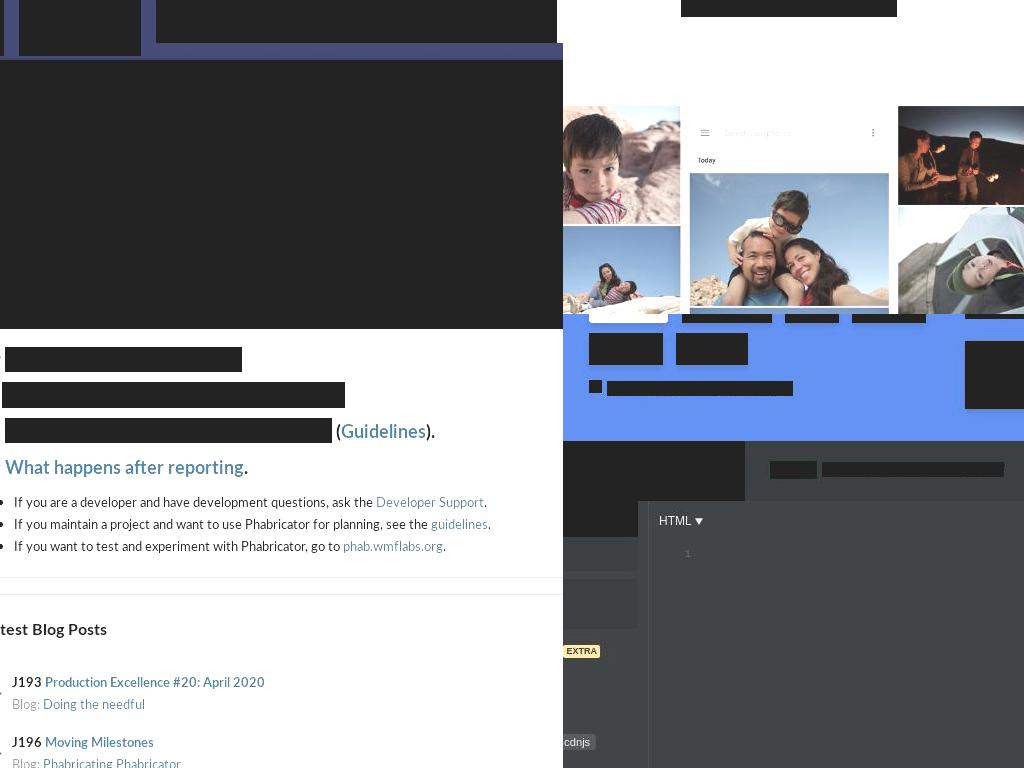button: (243, 60, 558, 259), (86, 60, 244, 259), (243, 258, 558, 314), (0, 60, 87, 259), (86, 258, 244, 314), (19, 0, 141, 56), (640, 441, 745, 501), (571, 441, 640, 501), (965, 341, 1024, 409), (681, 0, 897, 17), (649, 501, 713, 541), (589, 333, 663, 365), (676, 333, 748, 365), (682, 314, 772, 323), (589, 314, 669, 323), (852, 314, 926, 323), (785, 314, 839, 323), (563, 645, 600, 658)
field: (156, 0, 557, 43), (563, 584, 633, 624), (563, 537, 638, 571)
heading: (2, 382, 345, 408), (5, 418, 332, 443), (5, 453, 244, 479), (5, 347, 238, 372), (563, 501, 638, 537), (0, 617, 107, 640), (341, 418, 426, 443), (563, 734, 597, 750), (332, 418, 341, 443), (426, 418, 435, 443), (244, 453, 248, 479), (238, 347, 242, 372)
image: (563, 41, 1024, 314), (243, 60, 554, 255), (86, 60, 240, 255), (243, 258, 554, 314), (0, 60, 83, 255), (649, 541, 708, 768), (86, 258, 240, 314), (577, 463, 602, 479), (646, 463, 671, 479), (589, 380, 602, 393), (694, 517, 703, 525)
link: (45, 673, 265, 691), (607, 381, 793, 396), (45, 733, 154, 751), (376, 493, 484, 511), (43, 695, 145, 713), (343, 537, 443, 555), (43, 755, 181, 768), (974, 351, 1024, 381), (431, 515, 488, 533)
text: (0, 314, 563, 329), (14, 515, 431, 533), (14, 493, 376, 511), (14, 537, 343, 555), (707, 545, 1024, 561), (822, 462, 1004, 477), (40, 11, 103, 29), (671, 463, 738, 479), (770, 461, 817, 479), (665, 545, 699, 562), (12, 695, 43, 713), (12, 673, 42, 691), (12, 733, 42, 751), (602, 463, 633, 479), (659, 514, 692, 528), (12, 755, 43, 768), (965, 314, 978, 319), (484, 493, 487, 511), (488, 515, 491, 533), (443, 537, 446, 555)
